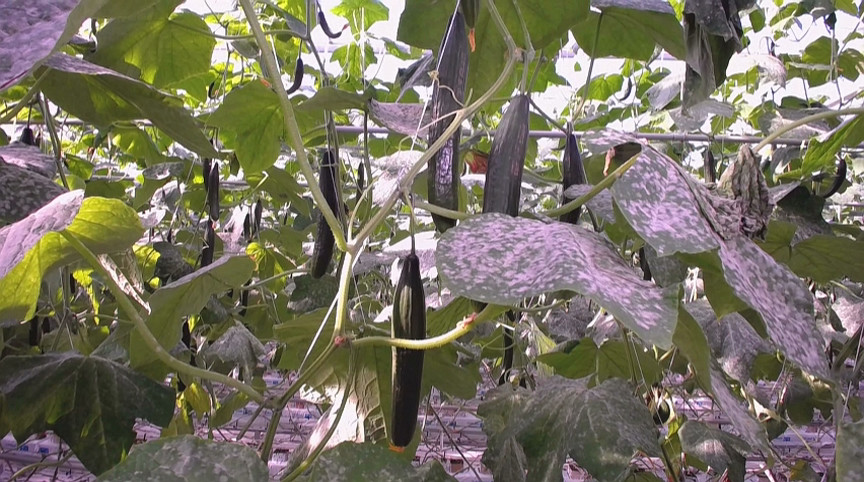cucumber: (432, 15, 470, 232), (391, 252, 424, 449), (483, 94, 532, 215), (312, 153, 338, 276), (208, 163, 221, 221)
